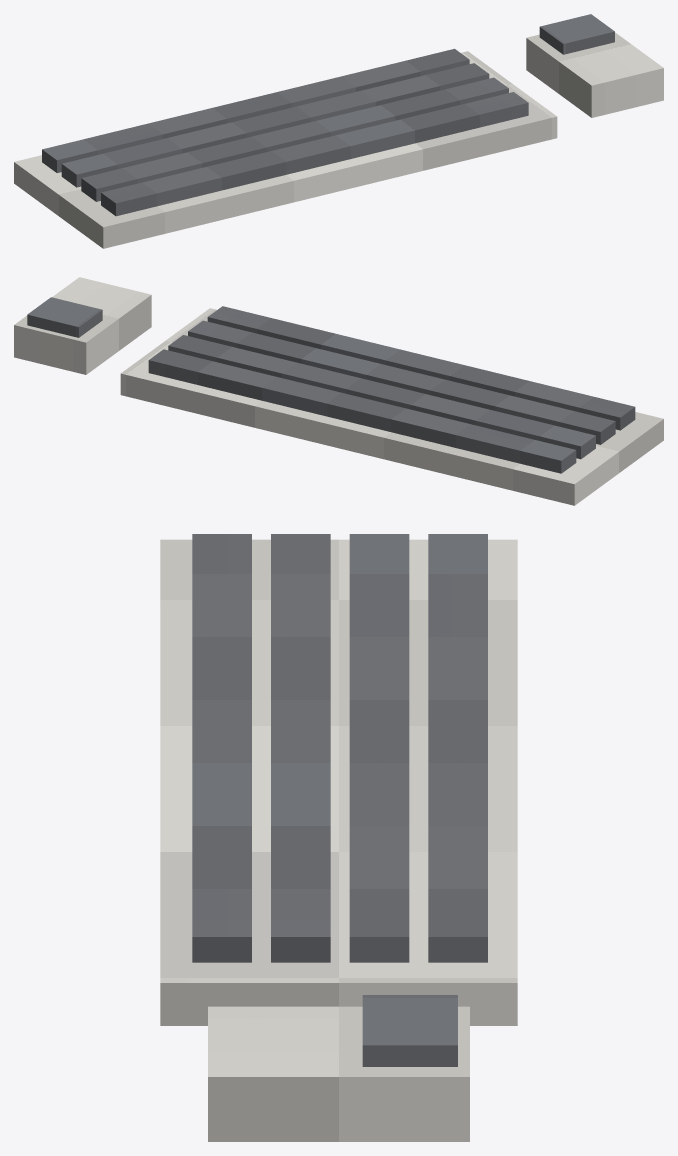
The model's file is pixel-modern-office-keyboard-and-mouse-fb746f0a.glb.
3 views of the same model, one above another, from view 1: azimuth 30°, elevation 25°; view 2: azimuth 150°, elevation 25°; view 3: azimuth 270°, elevation 25° (orthographic). The views are drawn at different scales.
Parts seen in each view (by area): view 1: keyboard-and-mouse; view 2: keyboard-and-mouse; view 3: keyboard-and-mouse.
Part boxes in pixels (x1,y1,x2,y2): keyboard-and-mouse: (14,14,663,248); keyboard-and-mouse: (14,277,663,505); keyboard-and-mouse: (160,534,517,1141).
Bounding box in the file's own units: 0.555 × 0.04 × 0.15.
Materials: 2 (2 with a texture image).
